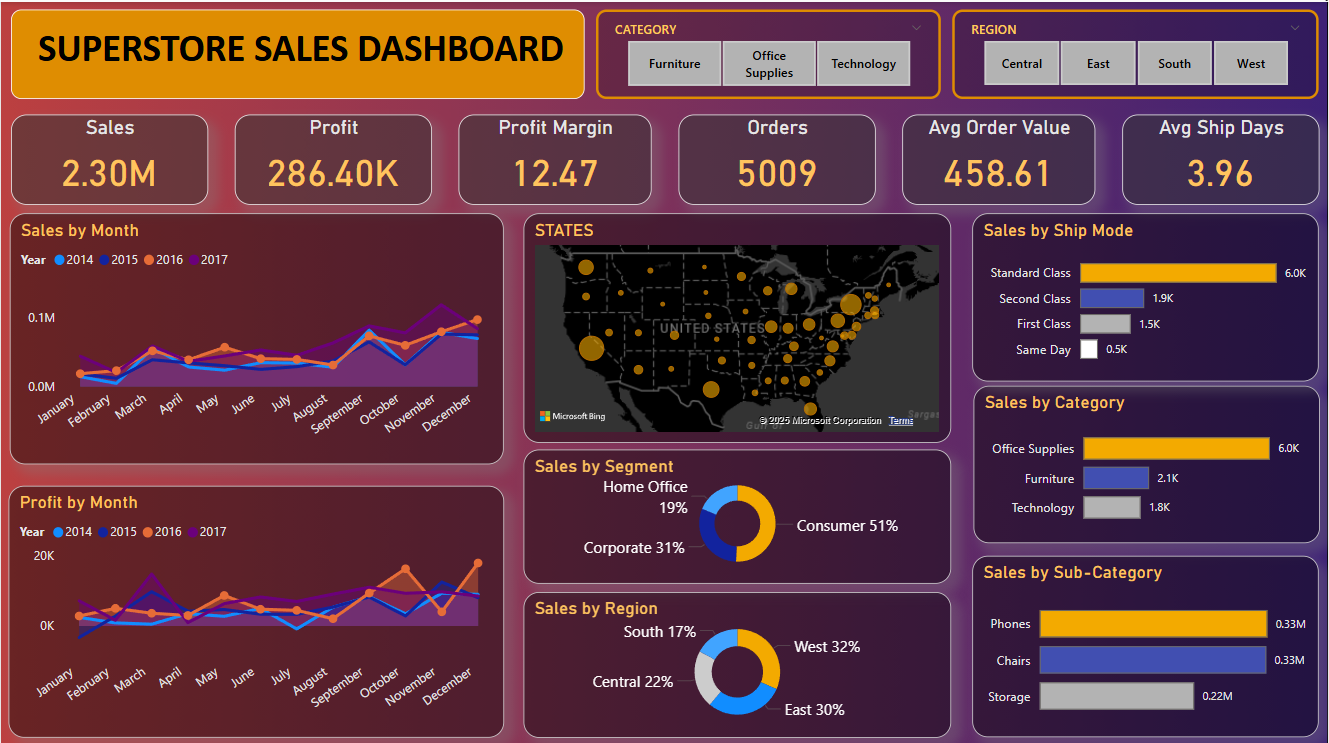

The dashboard page shown, as its layout file describes it:
{"tool":"powerbi","page":{"name":"Page 1","canvas":[1280,720],"ordinal":0},"visuals":[{"type":"card","title":"Sales","fields":{"Values":["Sum(Sample - Superstore.Sales)"]},"box":[10,108.1,190,87.5],"z":0,"group":"g1"},{"type":"slicer","fields":{"Values":["Sample - Superstore.Region"]},"box":[917.5,7.5,353.8,86.2],"z":0},{"type":"card","title":"Profit","fields":{"Values":["Sum(Sample - Superstore.Profit)"]},"box":[226,108.1,190,87.5],"z":1000,"group":"g1"},{"type":"slicer","fields":{"Values":["Sample - Superstore.Category"]},"box":[573.8,7.5,332.5,86.2],"z":1000},{"type":"card","title":"Orders","fields":{"Values":["Sample - Superstore.Orders"]},"box":[654.2,108.1,190,87.5],"z":2000,"group":"g1"},{"type":"textbox","box":[10,7.5,553.8,86.2],"z":2000},{"type":"card","title":"Avg Ship Days","fields":{"Values":["Avg(Sample - Superstore.Avg Ship Days)"]},"box":[1082.5,108.1,190,87.5],"z":3000,"group":"g1"},{"type":"clusteredBarChart","title":"Sales by Category","fields":{"Category":["Sample - Superstore.Category"],"Y":["CountNonNull(Sample - Superstore.Sales)"]},"box":[938.7,369.8,334.2,152.2],"z":3000},{"type":"card","title":"Profit Margin","fields":{"Values":["Sample - Superstore.Profit Margin %"]},"box":[442,108.1,186.2,87.5],"z":4000,"group":"g1"},{"type":"group","id":"g1","title":"Group 1","box":[10,108.1,1262.9,86.8],"z":4000},{"type":"card","title":"Avg Order Value","fields":{"Values":["Sample - Superstore.Avg Order Value"]},"box":[870.2,108.1,186.2,87.5],"z":5000,"group":"g1"},{"type":"clusteredBarChart","title":"Sales by Sub-Category","fields":{"Category":["Sample - Superstore.Sub-Category"],"Y":["Sum(Sample - Superstore.Sales)"]},"box":[937.2,534.8,334.2,174.9],"z":5000},{"type":"clusteredBarChart","title":"Sales by Ship Mode","fields":{"Category":["Sample - Superstore.Ship Mode"],"Y":["CountNonNull(Sample - Superstore.Sales)"]},"box":[937.2,203.4,334.2,162.1],"z":6000},{"type":"areaChart","title":"Sales  by Month","fields":{"Y":["Sum(Sample - Superstore.Sales)"],"Series":["Sample - Superstore.Custom order date.Variation.Date Hierarchy.Year"],"Category":["Sample - Superstore.Custom order date.Variation.Date Hierarchy.Month","Sample - Superstore.Custom order date.Variation.Date Hierarchy.Day"]},"box":[9,203.8,476.9,242.3],"z":7000},{"type":"areaChart","title":"Profit by Month","fields":{"Series":["Sample - Superstore.Custom order date.Variation.Date Hierarchy.Year"],"Category":["Sample - Superstore.Custom order date.Variation.Date Hierarchy.Month","Sample - Superstore.Custom order date.Variation.Date Hierarchy.Day"],"Y":["Sum(Sample - Superstore.Profit)"]},"box":[7.7,466.7,478.2,243.6],"z":8000},{"type":"map","title":"STATES","fields":{"Size":["Sum(Sample - Superstore.Sales)"],"Category":["Sample - Superstore.State"]},"box":[504.9,203.4,412.4,221.9],"z":9000},{"type":"donutChart","title":"Sales by Segment","fields":{"Category":["Sample - Superstore.Segment"],"Y":["Sum(Sample - Superstore.Sales)"]},"box":[504.9,432.4,412.4,129.4],"z":10000},{"type":"donutChart","title":"Sales by Region","fields":{"Y":["Sum(Sample - Superstore.Sales)"],"Category":["Sample - Superstore.Region"]},"box":[504.9,568.9,412.4,140.8],"z":11000}]}

Visuals, with their boxes in screenshot pixels (x1, y1, x2, y2), scaled from the page's 1280x720 canvas onto the 1329x743 screenshot:
"Sales" card: l=10, t=112, r=208, b=202
slicer - Sample - Superstore.Region: l=953, t=8, r=1320, b=97
"Profit" card: l=235, t=112, r=432, b=202
slicer - Sample - Superstore.Category: l=596, t=8, r=941, b=97
"Orders" card: l=679, t=112, r=877, b=202
textbox: l=10, t=8, r=585, b=97
"Avg Ship Days" card: l=1124, t=112, r=1321, b=202
"Sales by Category" clusteredBarChart: l=975, t=382, r=1322, b=539
"Profit Margin" card: l=459, t=112, r=652, b=202
"Group 1" group: l=10, t=112, r=1322, b=201
"Avg Order Value" card: l=904, t=112, r=1097, b=202
"Sales by Sub-Category" clusteredBarChart: l=973, t=552, r=1320, b=732
"Sales by Ship Mode" clusteredBarChart: l=973, t=210, r=1320, b=377
"Sales  by Month" areaChart: l=9, t=210, r=505, b=460
"Profit by Month" areaChart: l=8, t=482, r=505, b=733
"STATES" map: l=524, t=210, r=952, b=439
"Sales by Segment" donutChart: l=524, t=446, r=952, b=580
"Sales by Region" donutChart: l=524, t=587, r=952, b=732
